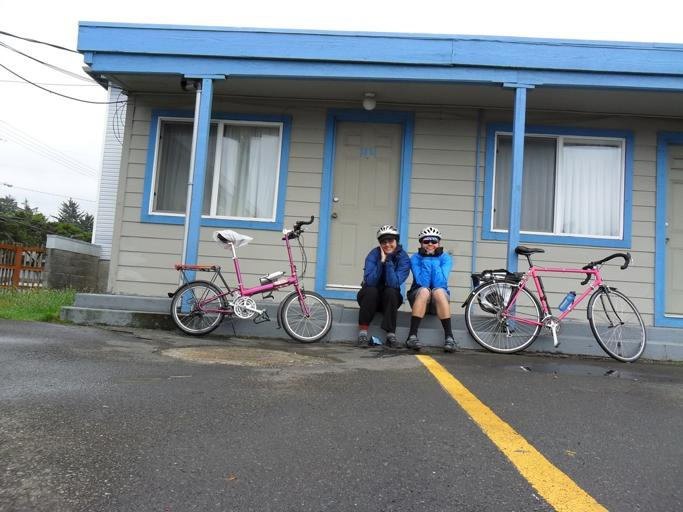non-vehicle: (461, 246, 646, 362), (167, 215, 333, 341)
